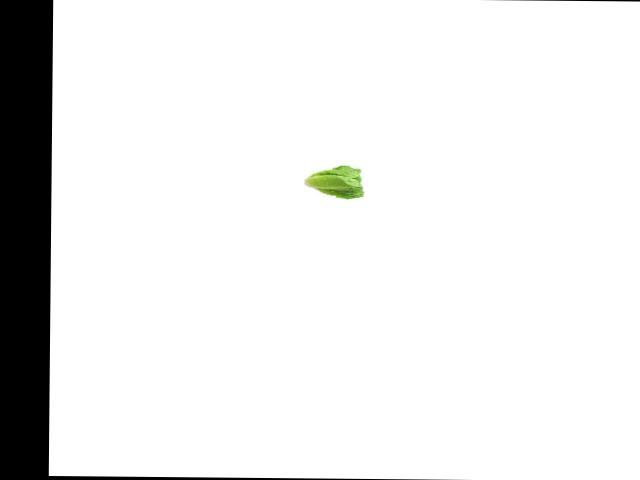lettuce: (302, 159, 366, 204)
